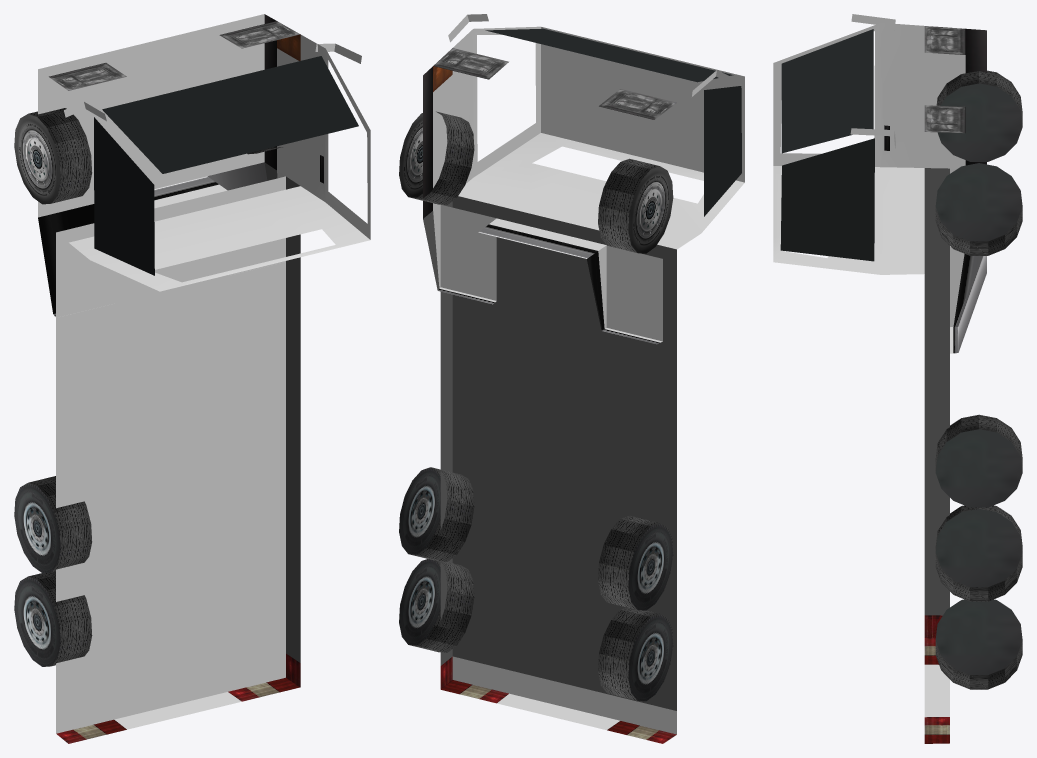
File: Truck.gltf
The picture shows the model from 3 angles, left to right: view 1: azimuth 30°, elevation 25°; view 2: azimuth 150°, elevation 25°; view 3: azimuth 270°, elevation 25°; orthographic projection. The views are drawn at different scales.
Visible parts, largest first — view 1: Body1, WheelRL012, WheelRL014, WheelRL016; view 2: Body1, WheelRL014, WheelRL012, WheelRL016, WheelRL013, WheelRL015, WheelRL011; view 3: Body1, WheelRL011, WheelRL013, WheelRL014, WheelRL015, WheelRL012, WheelRL016.
Boxes of the visible parts, box(x1,y1,x2,y2) form: Body1: box(38, 14, 370, 743); WheelRL012: box(14, 108, 92, 204); WheelRL014: box(14, 476, 92, 573); WheelRL016: box(14, 571, 92, 666); Body1: box(423, 26, 744, 743); WheelRL014: box(598, 515, 673, 610); WheelRL012: box(598, 158, 673, 253); WheelRL016: box(598, 607, 673, 701); WheelRL013: box(399, 467, 474, 561); WheelRL015: box(399, 559, 474, 652); WheelRL011: box(399, 111, 474, 205); Body1: box(773, 23, 986, 743); WheelRL011: box(935, 163, 1022, 255); WheelRL013: box(935, 508, 1022, 601); WheelRL014: box(935, 414, 1022, 507); WheelRL015: box(935, 599, 1022, 689); WheelRL012: box(936, 70, 1022, 161); WheelRL016: box(935, 505, 1022, 550).
Bounding box in the file's own units: 0.7545 × 1.71 × 0.627.
Materials: 7 (4 with a texture image).
